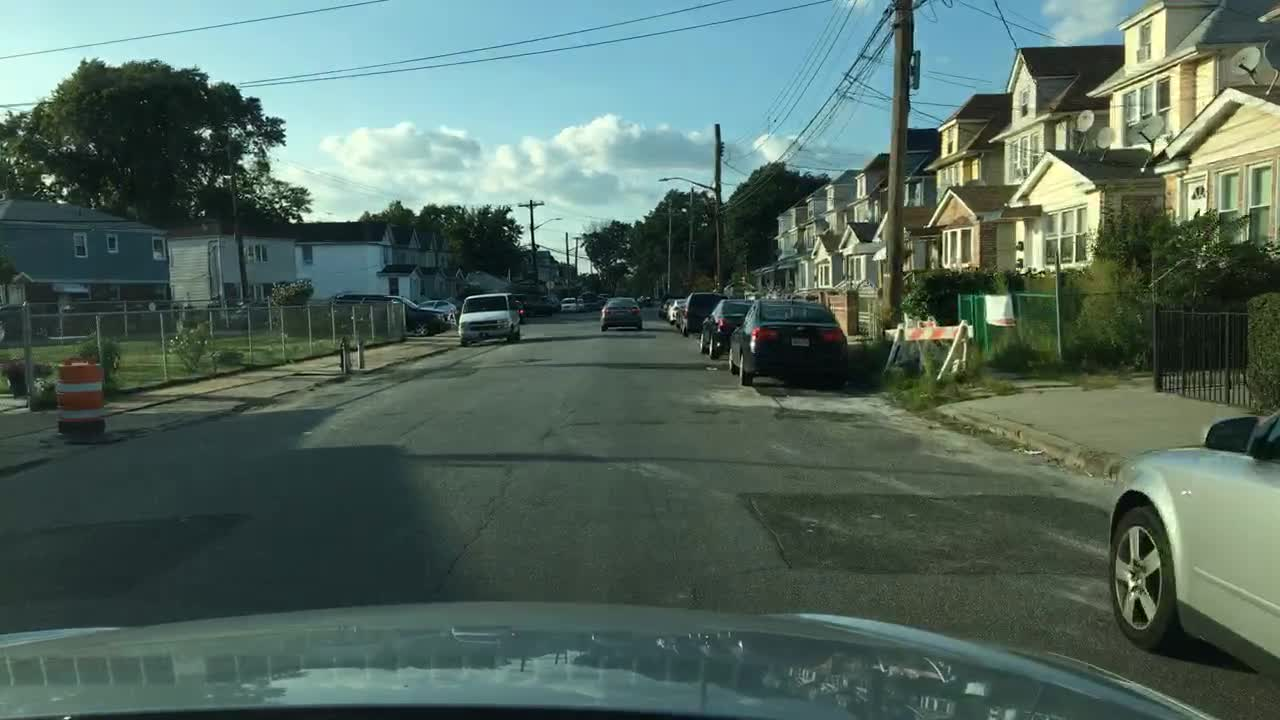car: (1102, 395, 1280, 691), (730, 298, 851, 393), (321, 292, 449, 338), (696, 298, 756, 359), (457, 292, 521, 344), (54, 301, 134, 338), (211, 298, 282, 333), (679, 289, 725, 336), (599, 295, 645, 333), (0, 299, 34, 342), (523, 292, 556, 315), (667, 296, 685, 326), (424, 298, 457, 313), (506, 292, 524, 319), (659, 299, 675, 318), (635, 292, 653, 307), (579, 292, 596, 307), (559, 296, 576, 309), (595, 293, 604, 307)
traffic sign: (546, 276, 555, 289)
